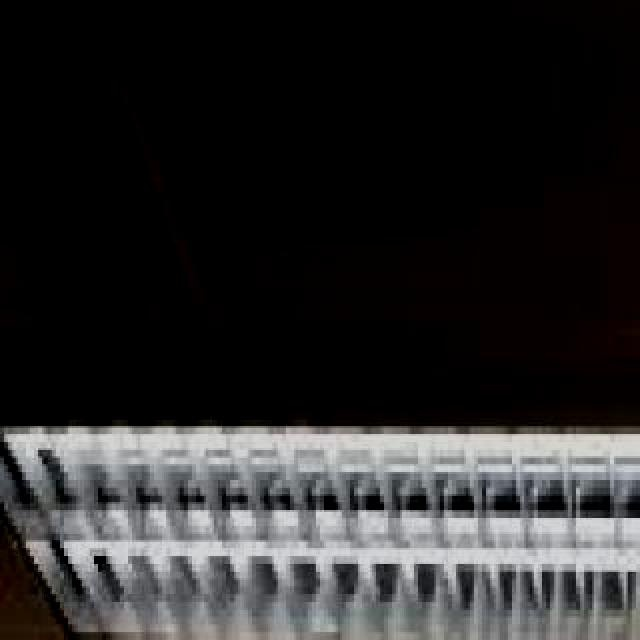fluorescent tube: (20, 490, 640, 610), (12, 412, 640, 500)
